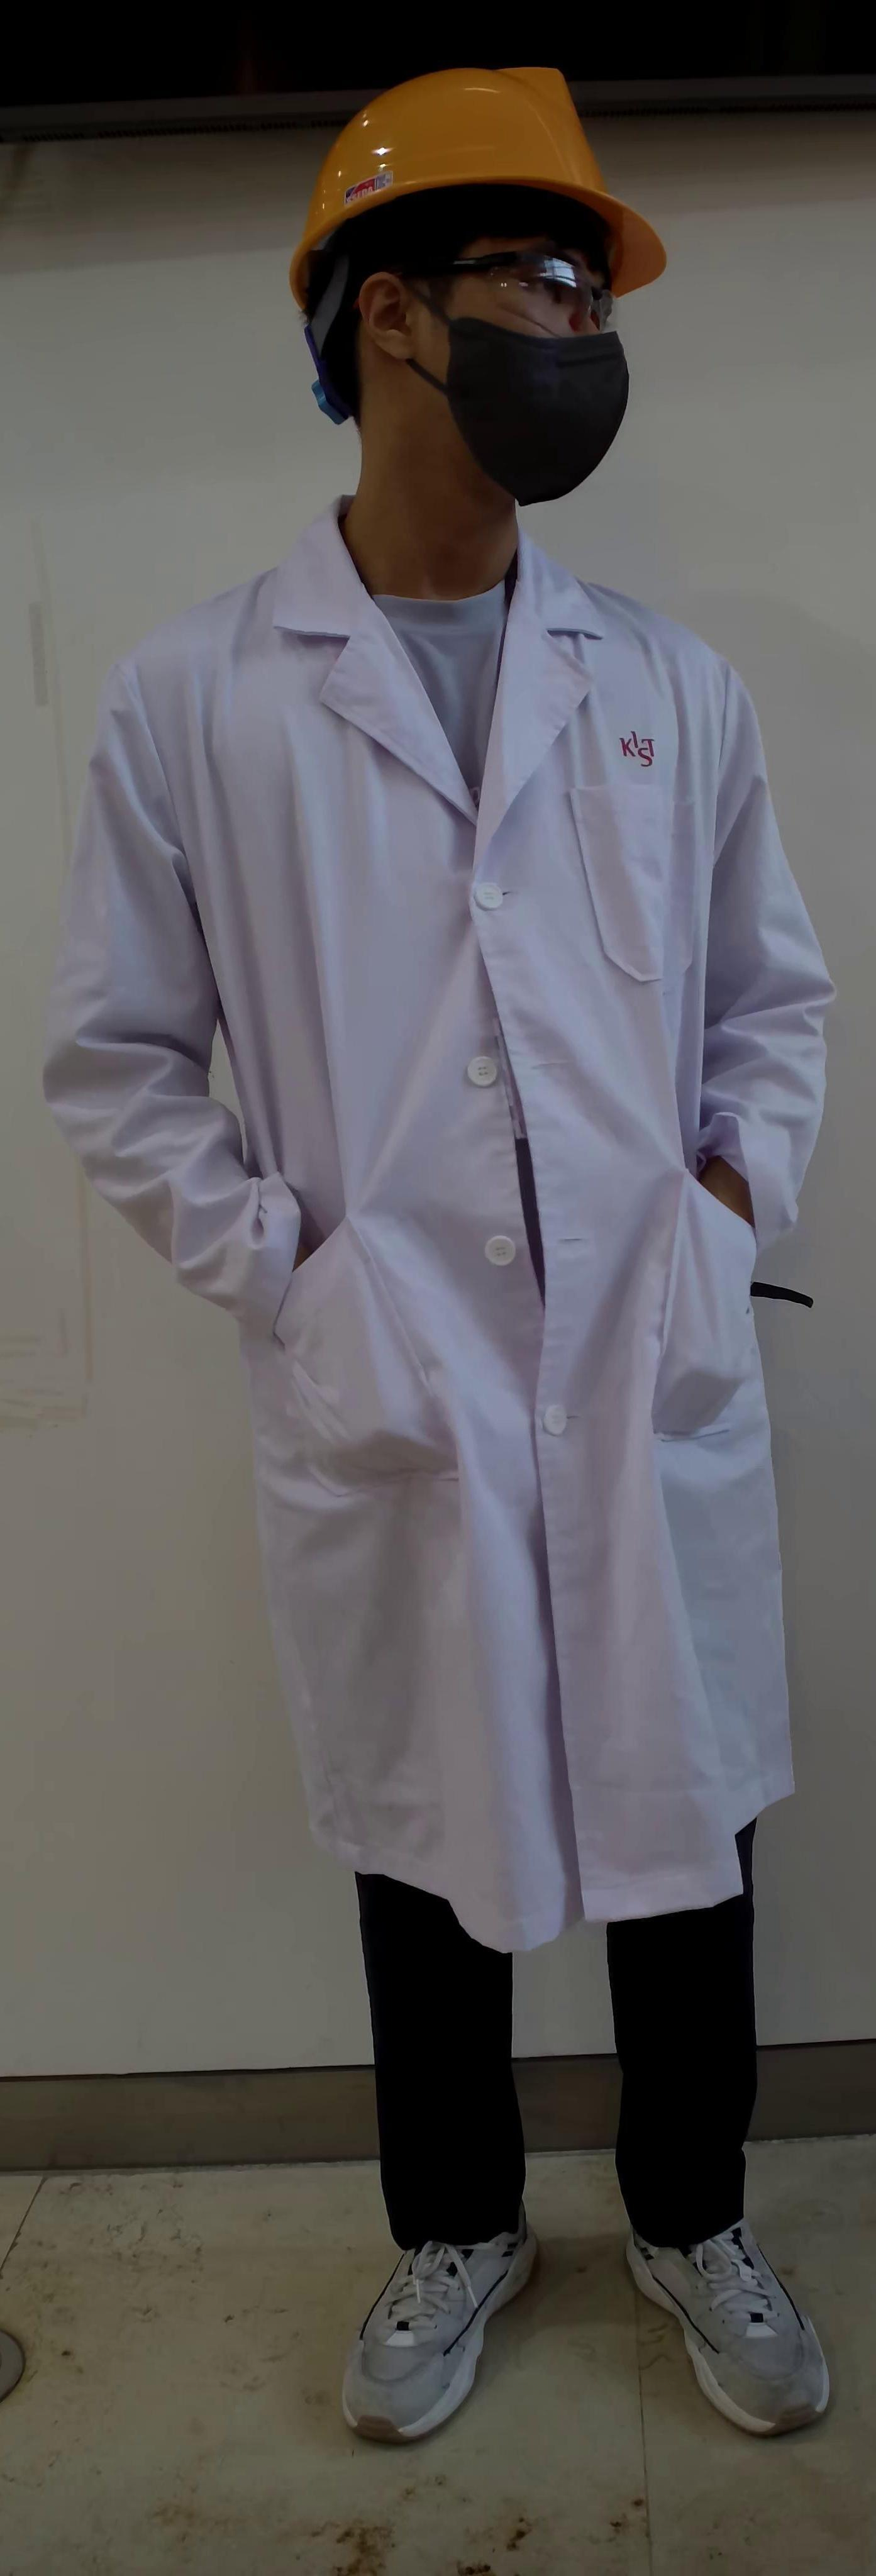lab_coat: (64, 562, 848, 1950)
